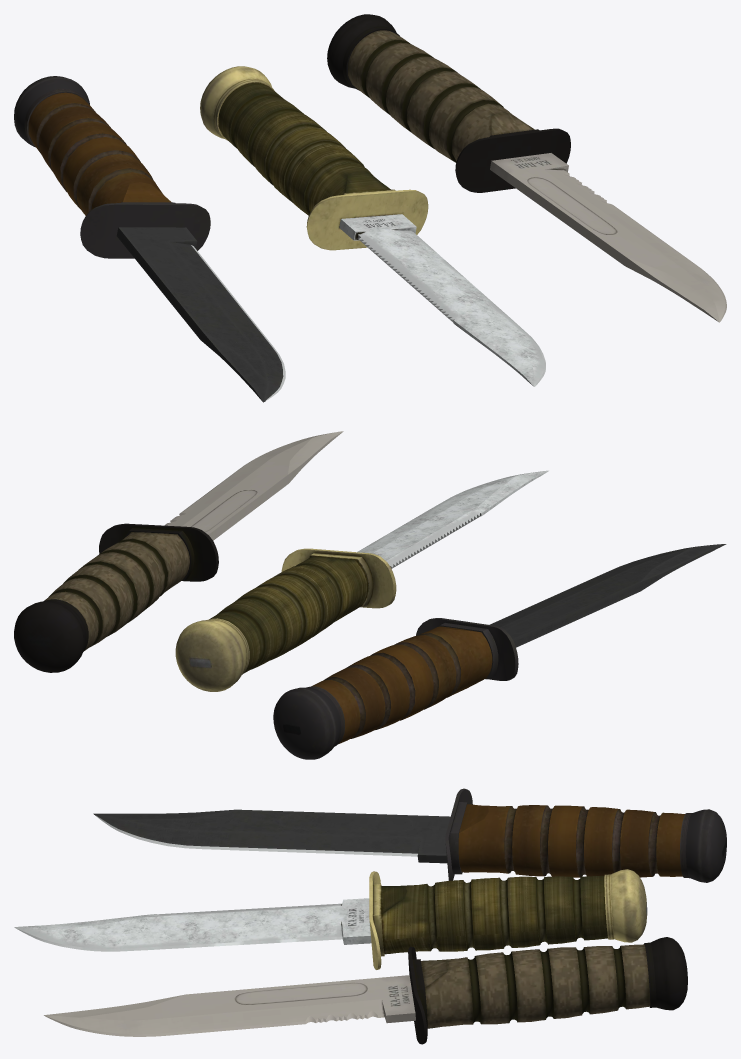
File: knife.glb
3 renders of one model, top to bottom at view 1: azimuth 30°, elevation 25°; view 2: azimuth 150°, elevation 25°; view 3: azimuth 270°, elevation 25°, orthographic. The views are drawn at different scales.
Parts seen in each view (by area): view 1: Object_3, Object_4, Object_2; view 2: Object_2, Object_3, Object_4; view 3: Object_2, Object_3, Object_4.
Boxes of the visible parts, x1,y1,x2,y2 form: Object_3: (327,14,726,322); Object_4: (200,66,545,386); Object_2: (14,76,285,402); Object_2: (273,544,726,759); Object_3: (14,431,343,672); Object_4: (175,470,548,691); Object_2: (93,788,726,882); Object_3: (44,937,687,1044); Object_4: (14,869,647,969).
Bounding box in the file's own units: 7.69 × 1.29 × 10.47.
Materials: 3 (3 with a texture image).
